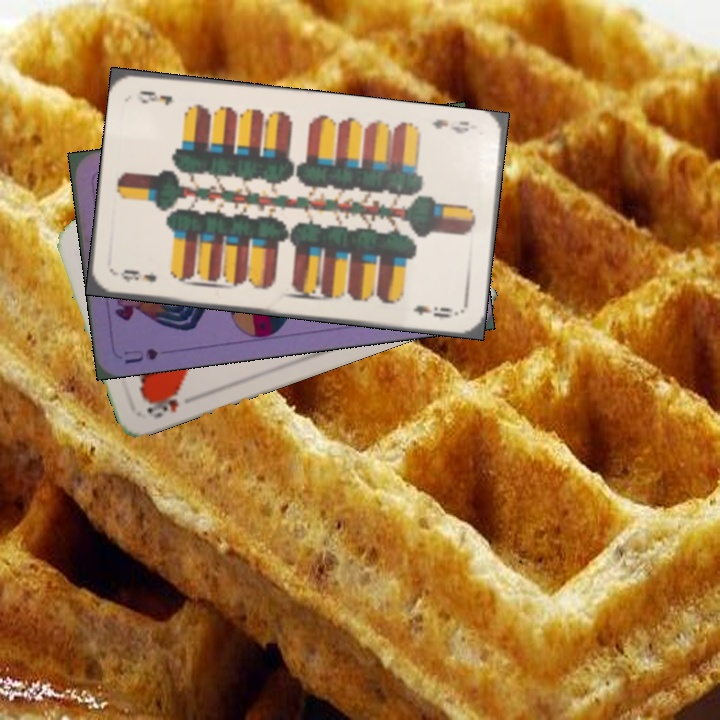E9: (428, 115, 472, 137), (117, 265, 159, 286)
HO: (142, 386, 185, 421)
SU: (120, 344, 161, 367)
